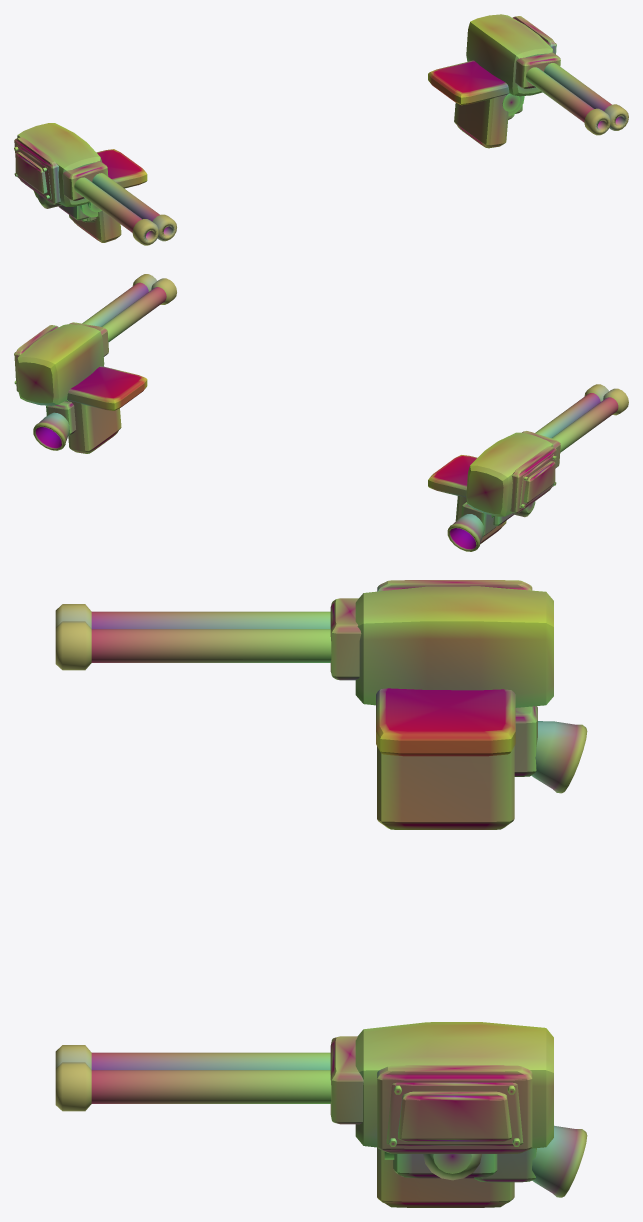
Rendered from llm_gen_shoulder_pods_049_fba0ac.glb.
3 views of the same model, one above another, from view 1: azimuth 30°, elevation 25°; view 2: azimuth 150°, elevation 25°; view 3: azimuth 270°, elevation 25° (orthographic). The views are drawn at different scales.
Visible parts, largest first — view 1: adapter_shoulder_yoke_r, cannon_cradle_1_wing_white_r, cannon_cradle_1_wing_white_l, adapter_shoulder_yoke_l, beam_barrel_out_4_barrel_metal_l, beam_barrel_in_3_barrel_metal_r, cannon_side_shroud_blue_8_cobalt_anodized_l, beam_barrel_in_3_barrel_metal_l, beam_barrel_out_4_barrel_metal_r, adapter_sub_heatsink_bezel_dark_7_adapter_dark_l, adapter_sub_mantlet_dark_2_adapter_dark_l, adapter_sub_mantlet_dark_2_adapter_dark_r (+4 smaller); view 2: cannon_cradle_1_wing_white_r, adapter_shoulder_yoke_r, cannon_cradle_1_wing_white_l, adapter_shoulder_yoke_l, beam_barrel_out_4_barrel_metal_l, beam_barrel_in_3_barrel_metal_r, cannon_side_shroud_blue_8_cobalt_anodized_l, addon_sh_vernier_10_vernier_bell_vernier_r, addon_sh_vernier_10_vernier_bell_vernier_l, beam_barrel_in_3_barrel_metal_l, beam_barrel_out_4_barrel_metal_r, adapter_sub_heatsink_bezel_dark_7_adapter_dark_l (+2 smaller); view 3: cannon_cradle_1_wing_white_l, adapter_shoulder_yoke_l, cannon_cradle_1_wing_white_r, cannon_side_shroud_blue_8_cobalt_anodized_r, beam_barrel_in_3_barrel_metal_l, beam_barrel_out_4_barrel_metal_r, adapter_sub_heatsink_bezel_dark_7_adapter_dark_r, adapter_shoulder_yoke_r, beam_barrel_in_3_barrel_metal_r, beam_barrel_out_4_barrel_metal_l, addon_sh_vernier_10_vernier_bell_vernier_l, addon_sh_vernier_10_vernier_bell_vernier_r (+8 smaller).
Part boxes in pixels (x1,y1,x2,y2): adapter_shoulder_yoke_r: (428, 60, 524, 148); cannon_cradle_1_wing_white_r: (466, 14, 553, 96); cannon_cradle_1_wing_white_l: (17, 123, 101, 206); adapter_shoulder_yoke_l: (58, 149, 147, 242); beam_barrel_out_4_barrel_metal_l: (74, 177, 142, 232); beam_barrel_in_3_barrel_metal_r: (526, 67, 593, 122); cannon_side_shroud_blue_8_cobalt_anodized_l: (14, 145, 51, 199); beam_barrel_in_3_barrel_metal_l: (92, 173, 159, 221); beam_barrel_out_4_barrel_metal_r: (544, 63, 611, 110); adapter_sub_heatsink_bezel_dark_7_adapter_dark_l: (14, 137, 60, 204); adapter_sub_mantlet_dark_2_adapter_dark_l: (62, 161, 108, 200); adapter_sub_mantlet_dark_2_adapter_dark_r: (515, 52, 560, 88); cannon_cradle_1_wing_white_r: (16, 324, 104, 405); adapter_shoulder_yoke_r: (67, 366, 147, 453); cannon_cradle_1_wing_white_l: (466, 432, 553, 516); adapter_shoulder_yoke_l: (428, 455, 513, 544); beam_barrel_out_4_barrel_metal_l: (552, 397, 618, 452); beam_barrel_in_3_barrel_metal_r: (101, 287, 166, 342); cannon_side_shroud_blue_8_cobalt_anodized_l: (519, 454, 556, 508); addon_sh_vernier_10_vernier_bell_vernier_r: (33, 412, 69, 450); addon_sh_vernier_10_vernier_bell_vernier_l: (447, 514, 484, 551); beam_barrel_in_3_barrel_metal_l: (535, 393, 600, 438); beam_barrel_out_4_barrel_metal_r: (82, 282, 148, 326); adapter_sub_heatsink_bezel_dark_7_adapter_dark_l: (510, 446, 556, 513); cannon_cradle_1_wing_white_l: (355, 586, 553, 707); adapter_shoulder_yoke_l: (376, 688, 515, 829); cannon_cradle_1_wing_white_r: (355, 1022, 553, 1148); cannon_side_shroud_blue_8_cobalt_anodized_r: (386, 1082, 523, 1146); beam_barrel_in_3_barrel_metal_l: (91, 629, 331, 662); beam_barrel_out_4_barrel_metal_r: (91, 1070, 331, 1103); adapter_sub_heatsink_bezel_dark_7_adapter_dark_r: (377, 1065, 532, 1153); adapter_shoulder_yoke_r: (377, 1147, 514, 1207); beam_barrel_in_3_barrel_metal_r: (91, 1052, 330, 1069); beam_barrel_out_4_barrel_metal_l: (91, 611, 330, 628); addon_sh_vernier_10_vernier_bell_vernier_l: (531, 721, 587, 793); addon_sh_vernier_10_vernier_bell_vernier_r: (532, 1125, 587, 1197).
Bounding box in the file's own units: 111 × 20.1 × 49.47.
